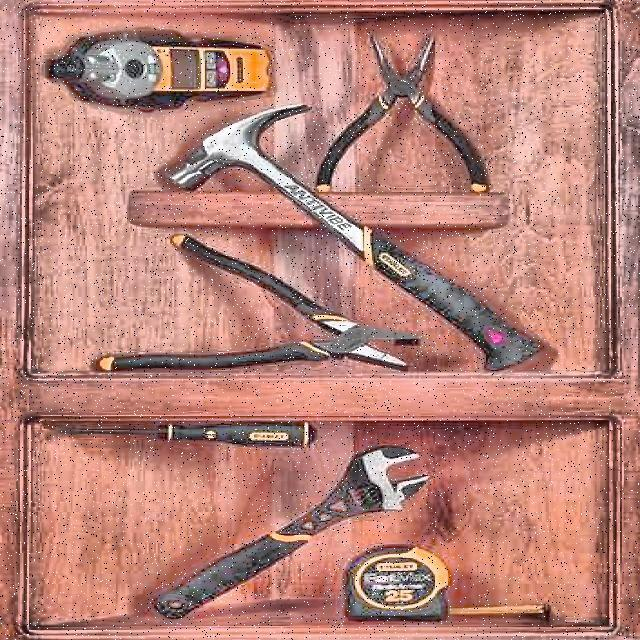hammer: (175, 104, 549, 374)
